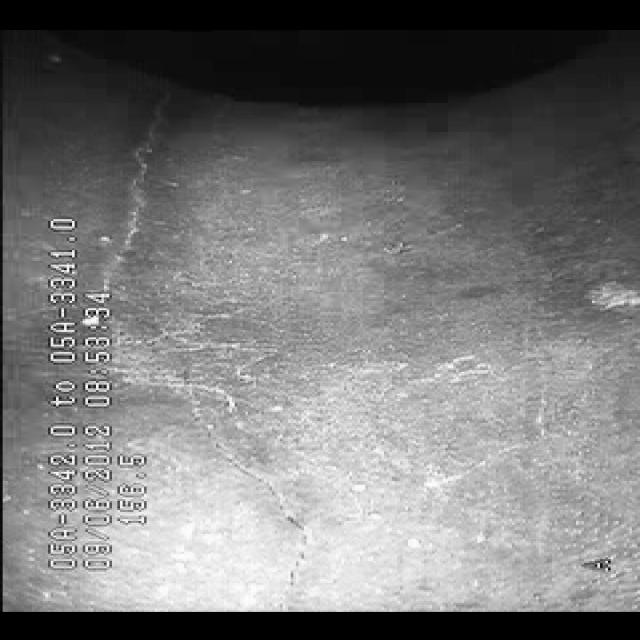Crack: (183, 389, 349, 592)
